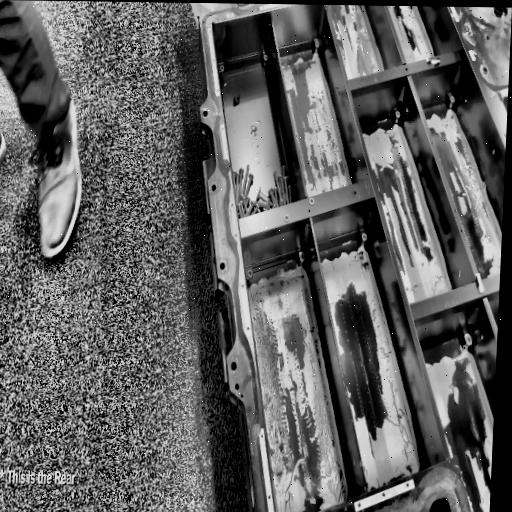b_casing: (198, 3, 512, 512)
